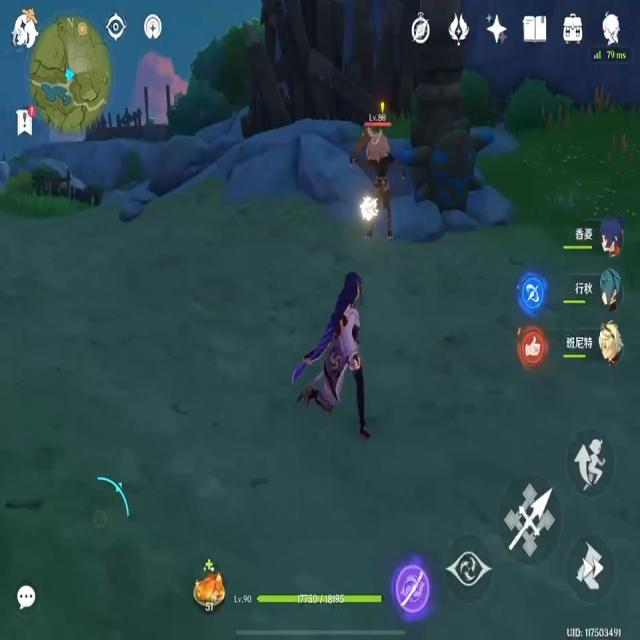genshin-hilichurls: (357, 131, 402, 244)
